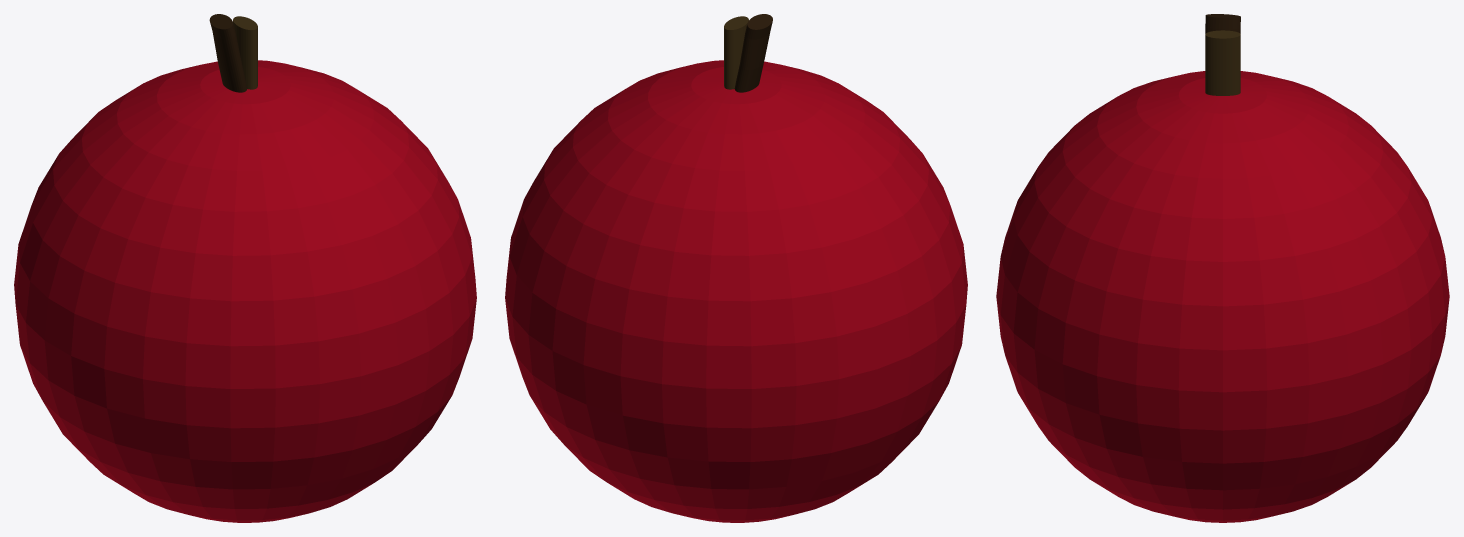
Rendered from coletavel1.fbx.
The picture shows the model from 3 angles, left to right: view 1: azimuth 30°, elevation 25°; view 2: azimuth 150°, elevation 25°; view 3: azimuth 270°, elevation 25°; orthographic projection. The views are drawn at different scales.
Visible parts, largest first — view 1: Sphere, Cylinder.001, Cylinder; view 2: Sphere, Cylinder.001, Cylinder; view 3: Sphere, Cylinder, Cylinder.001.
Part boxes in pixels (x1,y1,x2,y2): Sphere: (14,60,476,522); Cylinder.001: (209,14,247,92); Cylinder: (233,16,257,89); Sphere: (505,60,967,522); Cylinder.001: (734,14,772,92); Cylinder: (724,16,748,89); Sphere: (996,71,1449,522); Cylinder: (1205,30,1240,95); Cylinder.001: (1205,14,1240,33).
Size of the model in its own units: 200 by 232 by 200.
